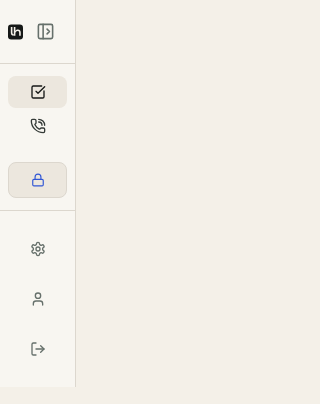
Sidebar responsive navigation › supports a compact desktop rail without losing navigation names
This screenshot has width=320, height=404.
Click the button named "Expand navigation": (45, 32) [23,10,67,54]
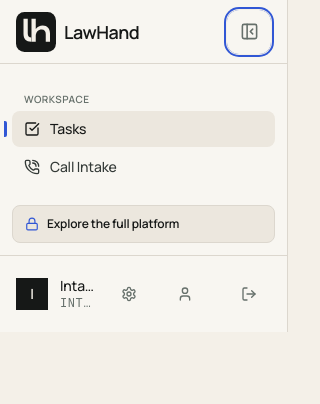
Expected: the button named "Collapse navigation" is shown, [227,10,271,54]
